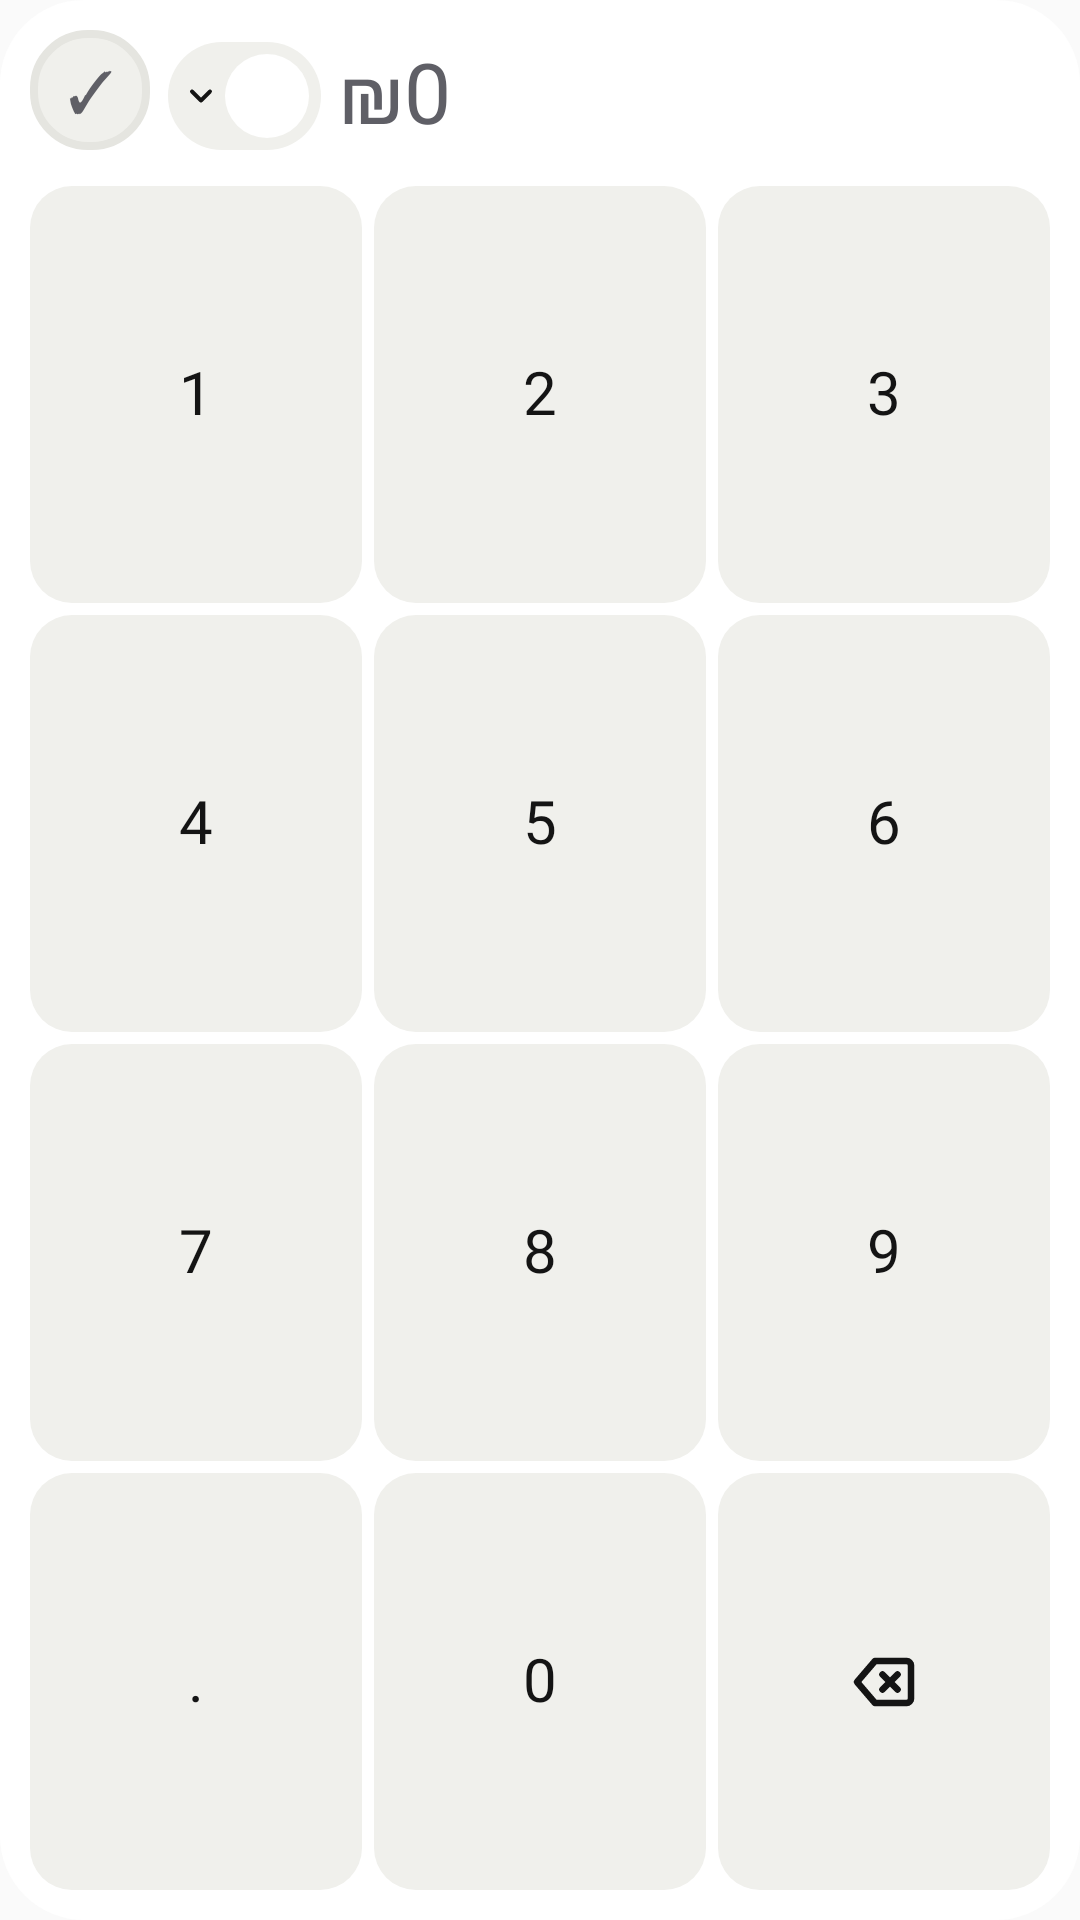

Icon click points for this 1080 x 1920 phone screenshot, format (x=x, y=y):
מחק: (x=884, y=1682)
